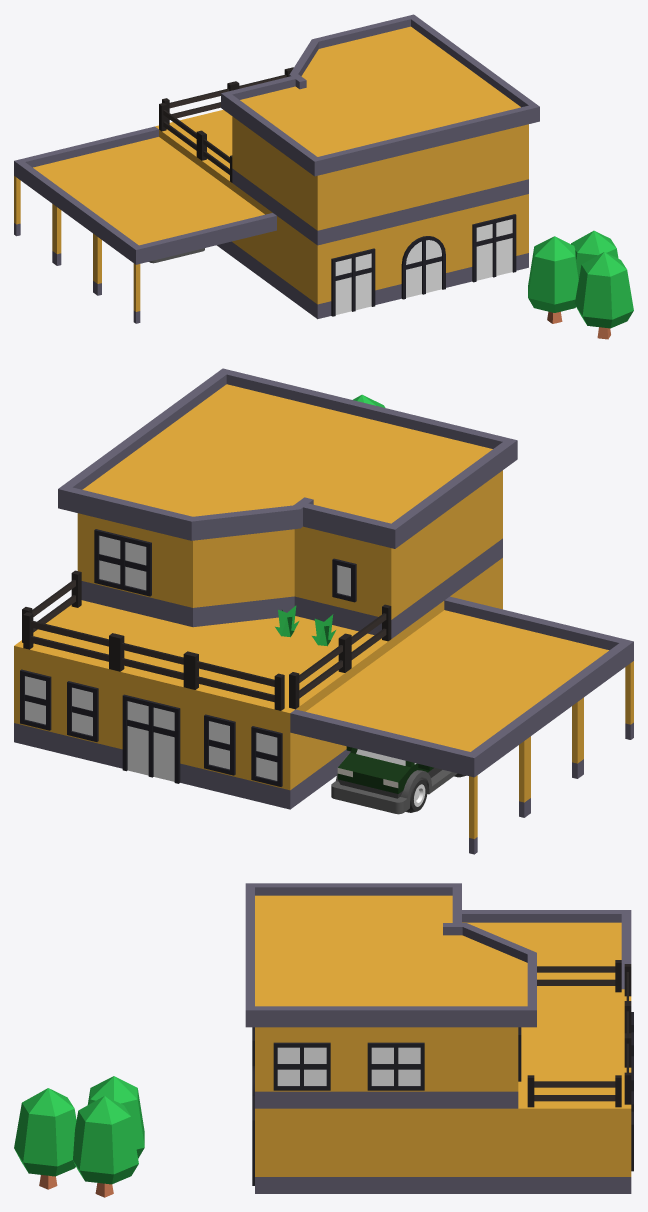
File: yellow_house_1.fbx
3 renders of one model, top to bottom at view 1: azimuth 30°, elevation 25°; view 2: azimuth 150°, elevation 25°; view 3: azimuth 270°, elevation 25°, orthographic. The views are drawn at different scales.
Parts seen in each view (by area): view 1: mergedBlocks; view 2: mergedBlocks; view 3: mergedBlocks.
Part boxes in pixels (x1,y1,x2,y2): mergedBlocks: (14,14,633,339); mergedBlocks: (14,368,633,854); mergedBlocks: (14,883,633,1197).
Bounding box in the file's own units: 53.65 × 22 × 65.95.
